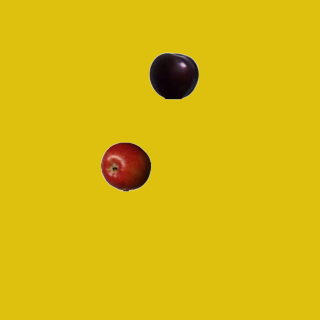Apple Braeburn: (100, 141, 150, 191)
Cherry Wax Black: (148, 50, 198, 100)
